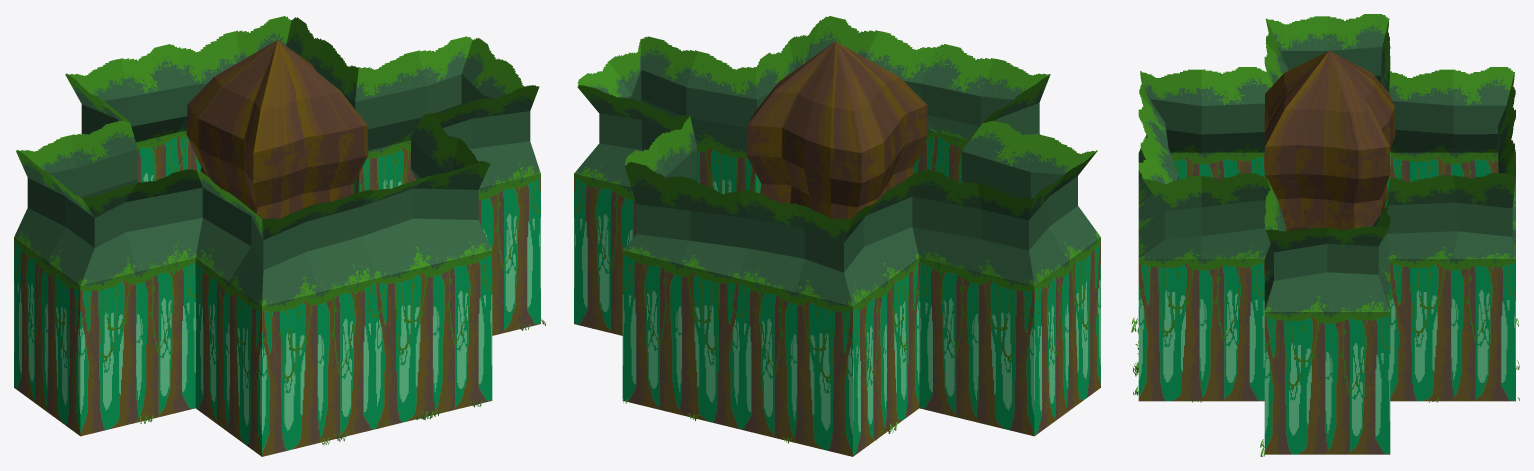
File: big_tree.glb
The picture shows the model from 3 angles, left to right: view 1: azimuth 30°, elevation 25°; view 2: azimuth 150°, elevation 25°; view 3: azimuth 270°, elevation 25°; orthographic projection. The views are drawn at different scales.
Parts seen in each view (by area): view 1: большое дерево.001, большое дерево; view 2: большое дерево.001, большое дерево; view 3: большое дерево.001, большое дерево.
Boxes of the visible parts, x1,y1,x2,y2 form: большое дерево.001: (14,16,540,456); большое дерево: (186,40,368,219); большое дерево.001: (574,16,1100,456); большое дерево: (746,41,928,219); большое дерево.001: (1138,14,1515,454); большое дерево: (1264,50,1395,230).
Size of the model in its own units: 16.1 by 10.63 by 12.43.
9 materials, 3 textured.
